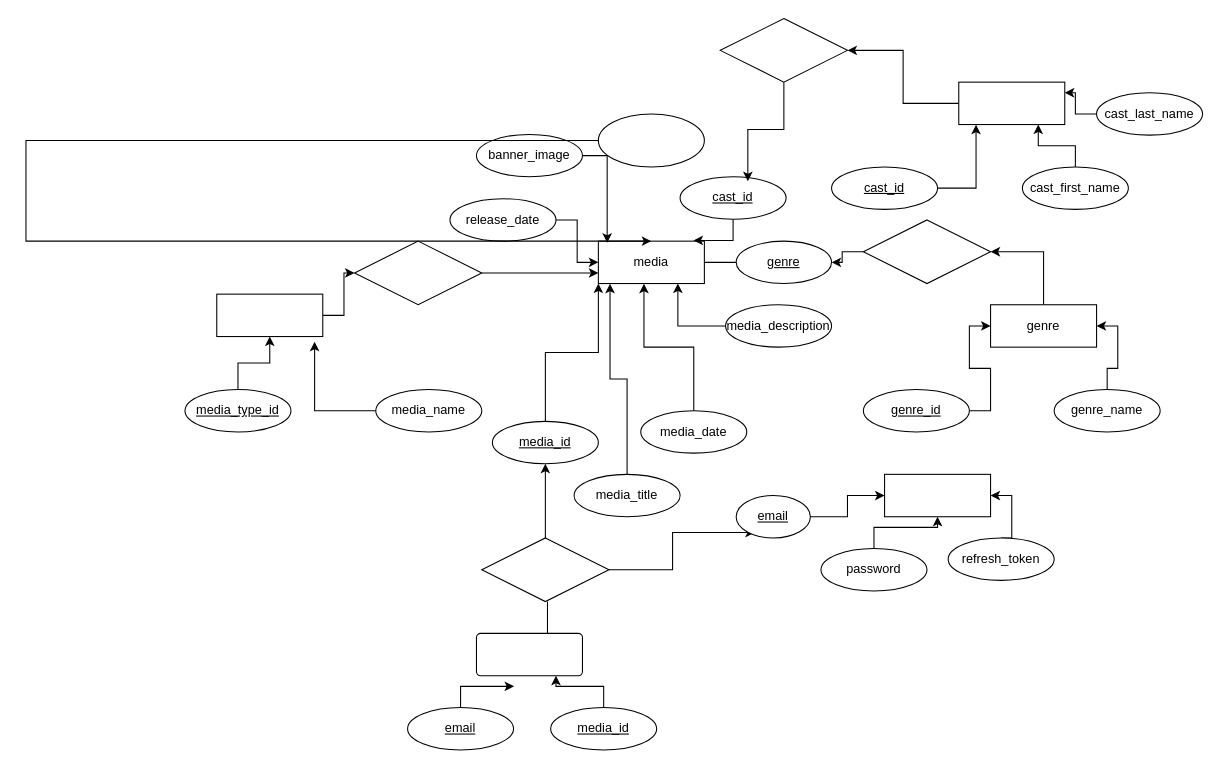
Image size: 1221x768. Some labels were removed from this diagram. The shapes that lost their labels are listed below. From the top down, each one's centre as x and y in pixels, then its label:
At (783,49): "has cast(s) of".
At (1011,103): "Cast".
At (650,140): "banner_title_image".
At (926,251): "has genre".
At (418,272): "has media type of".
At (269,315): "media type(e.g (movies, tvs, netflix orig)".
At (937,495): "Auth".
At (545,569): "look up".
At (528,654): "lookup_media_ watching".
